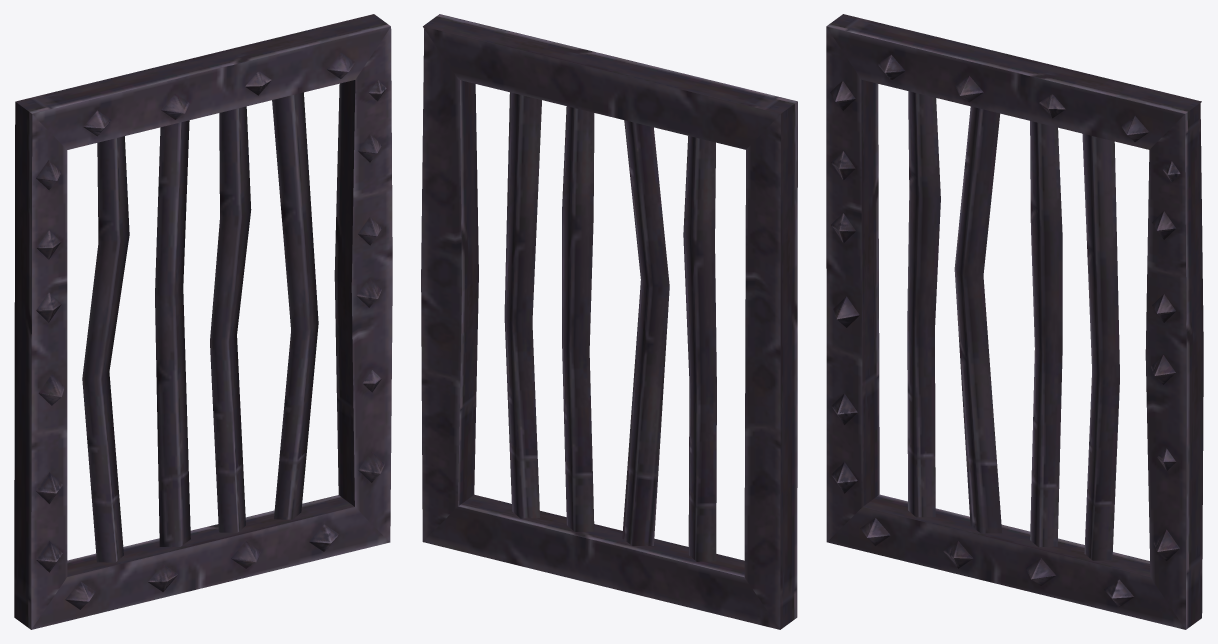
The model's file is lava_wallgrate_02.fbx.
3 views of the same model, side by side, from view 1: azimuth 30°, elevation 25°; view 2: azimuth 150°, elevation 25°; view 3: azimuth 330°, elevation 25° (orthographic).
Visible parts, largest first — view 1: lava_floorgrate_01_shadows; view 2: lava_floorgrate_01_shadows; view 3: lava_floorgrate_01_shadows.
Boxes of the visible parts, box(x1,y1,x2,y2) form: lava_floorgrate_01_shadows: box(14, 14, 392, 629); lava_floorgrate_01_shadows: box(421, 14, 797, 629); lava_floorgrate_01_shadows: box(826, 14, 1203, 629).
Bounding box in the file's own units: 4.03 × 5.51 × 0.5889.
